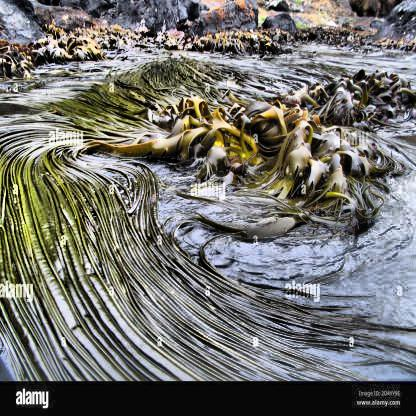Natural wastes: (186, 78, 399, 234)
